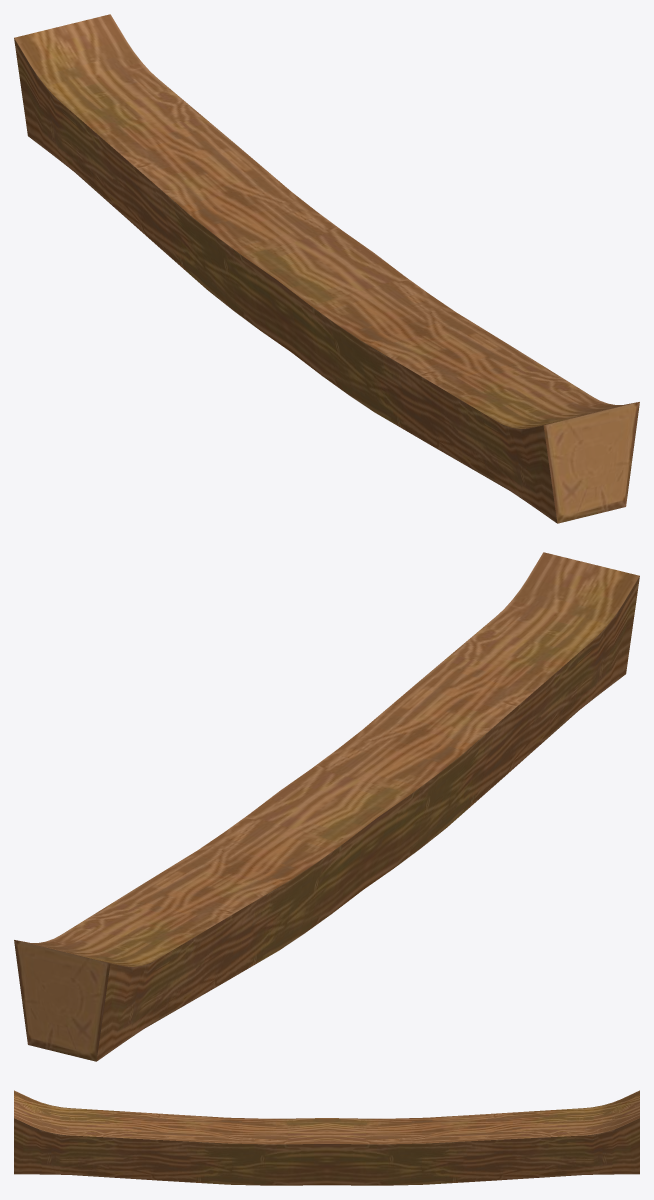
File: roof-qm-rooflog.glb
3 views of the same model, one above another, from view 1: azimuth 30°, elevation 25°; view 2: azimuth 150°, elevation 25°; view 3: azimuth 270°, elevation 25° (orthographic). The views are drawn at different scales.
Visible parts, largest first — view 1: Cube_014; view 2: Cube_014; view 3: Cube_014.
Boxes of the visible parts, bbox=[...] form: Cube_014: bbox=[14, 14, 639, 523]; Cube_014: bbox=[14, 552, 639, 1061]; Cube_014: bbox=[14, 1090, 639, 1185].
Size of the model in its own units: 1.15 by 1.39 by 10.7.
Materials: 1 (1 with a texture image).
